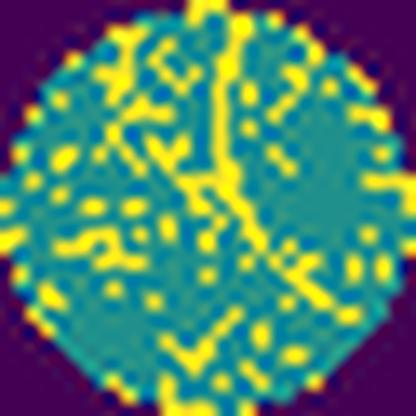Scratch: (140, 16, 362, 330)
